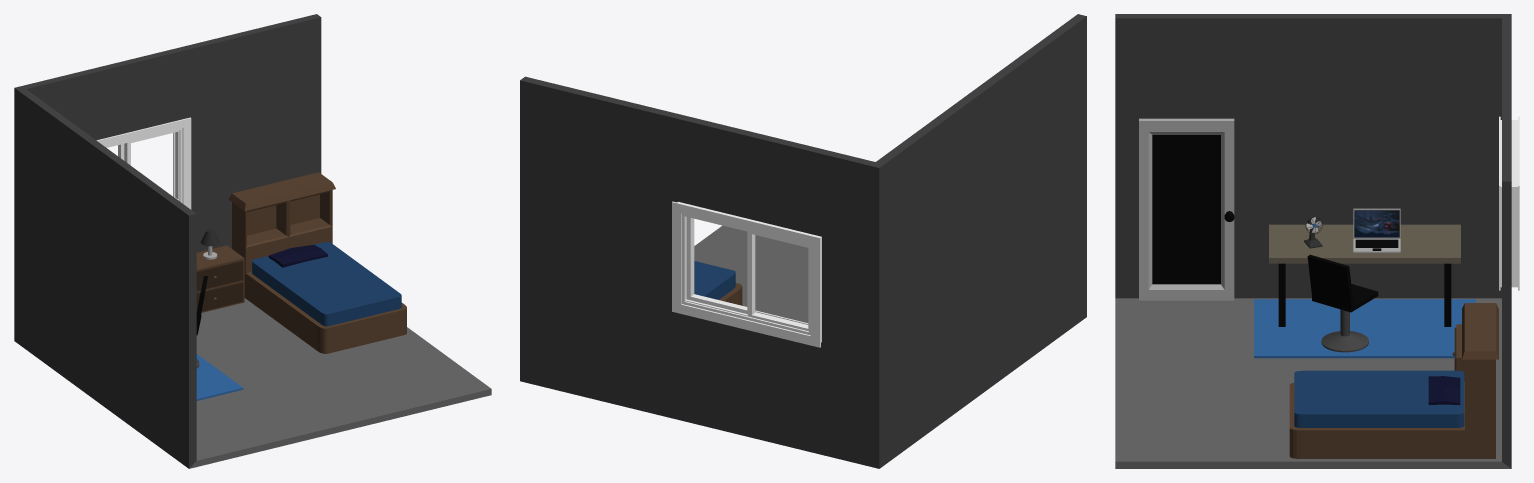
Rendered from Room.glb.
3 views of the same model, side by side, from view 1: azimuth 30°, elevation 25°; view 2: azimuth 150°, elevation 25°; view 3: azimuth 270°, elevation 25° (orthographic). The views are drawn at different scales.
Visible parts, largest first — view 1: Room, Bed, Window, Dresser, Rug; view 2: Room, Window, Bed; view 3: Room, Bed, Door, Rug, Table, Chair, Window, Desktop, Laptop, Dresser.
Boxes of the visible parts, x1,y1,x2,y2 form: Room: [14, 14, 491, 468]; Bed: [228, 172, 406, 353]; Window: [96, 117, 191, 209]; Dresser: [196, 245, 244, 312]; Rug: [196, 354, 243, 400]; Room: [520, 14, 1086, 468]; Window: [672, 201, 821, 347]; Bed: [694, 261, 742, 305]; Room: [1115, 14, 1511, 468]; Bed: [1289, 303, 1498, 458]; Door: [1139, 118, 1234, 300]; Rug: [1254, 299, 1475, 358]; Table: [1269, 224, 1460, 326]; Chair: [1307, 254, 1378, 352]; Window: [1499, 116, 1519, 290]; Desktop: [1354, 210, 1399, 237]; Laptop: [1353, 208, 1400, 252]; Dresser: [1452, 324, 1464, 381].
Size of the model in its own units: 5 by 4 by 5.1.
Materials: 13 (1 with a texture image).
